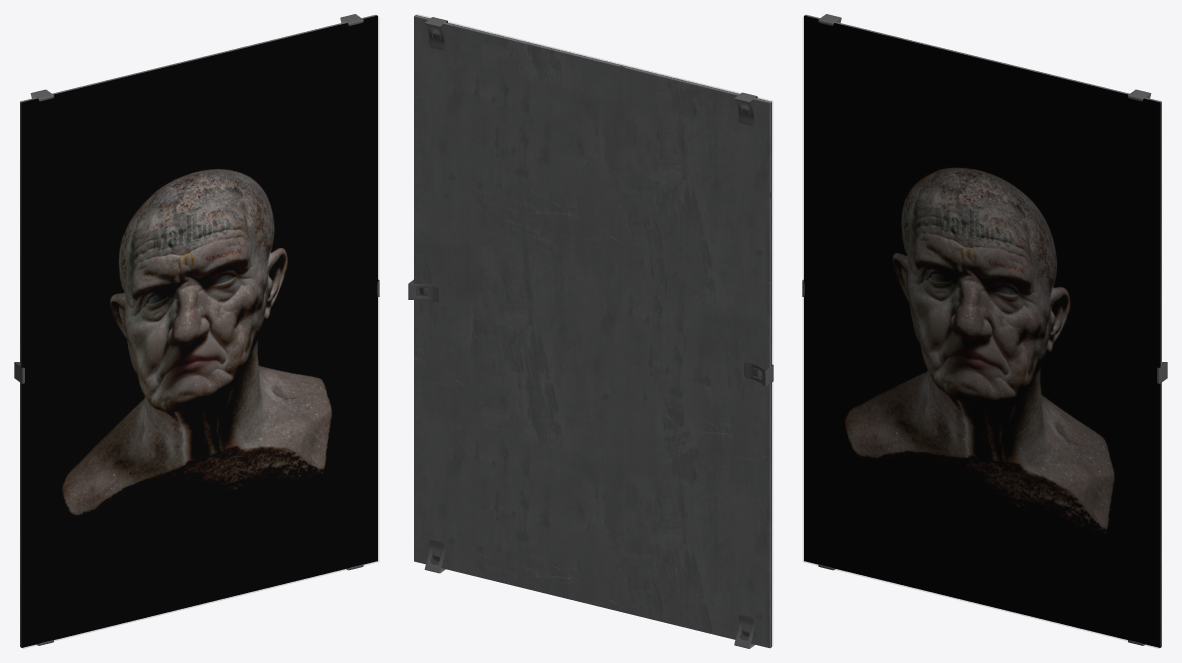
Rendered from monk_store_3D_packed-DTFxbJ86.glb.
3 renders of one model, left to right at view 1: azimuth 30°, elevation 25°; view 2: azimuth 150°, elevation 25°; view 3: azimuth 330°, elevation 25°, orthographic.
Visible parts, largest first — view 1: ARTWORK 13X19_copy.002, GLASS 13X19_Baked.002, ALU 13X19_Baked.002; view 2: ALU 13X19_Baked.002, CLIP VERTICAL_Baked.002, CLIP HORIZONTAL_Baked.002, GLASS 13X19_Baked.002, ARTWORK 13X19_copy.002; view 3: ARTWORK 13X19_copy.002, GLASS 13X19_Baked.002, ALU 13X19_Baked.002.
Boxes of the visible parts, left/top/right/bottom form: ARTWORK 13X19_copy.002: left=21, top=15, right=377, bottom=647; GLASS 13X19_Baked.002: left=22, top=16, right=378, bottom=648; ALU 13X19_Baked.002: left=20, top=14, right=376, bottom=647; ALU 13X19_Baked.002: left=414, top=15, right=771, bottom=648; CLIP VERTICAL_Baked.002: left=424, top=17, right=757, bottom=648; CLIP HORIZONTAL_Baked.002: left=408, top=279, right=773, bottom=386; GLASS 13X19_Baked.002: left=417, top=14, right=772, bottom=645; ARTWORK 13X19_copy.002: left=416, top=15, right=771, bottom=646; ARTWORK 13X19_copy.002: left=804, top=15, right=1160, bottom=647; GLASS 13X19_Baked.002: left=803, top=16, right=1159, bottom=648; ALU 13X19_Baked.002: left=805, top=14, right=1161, bottom=647.
Bounding box in the file's own units: 0.3205 × 0.4684 × 0.0132.
6 materials, 2 textured.
